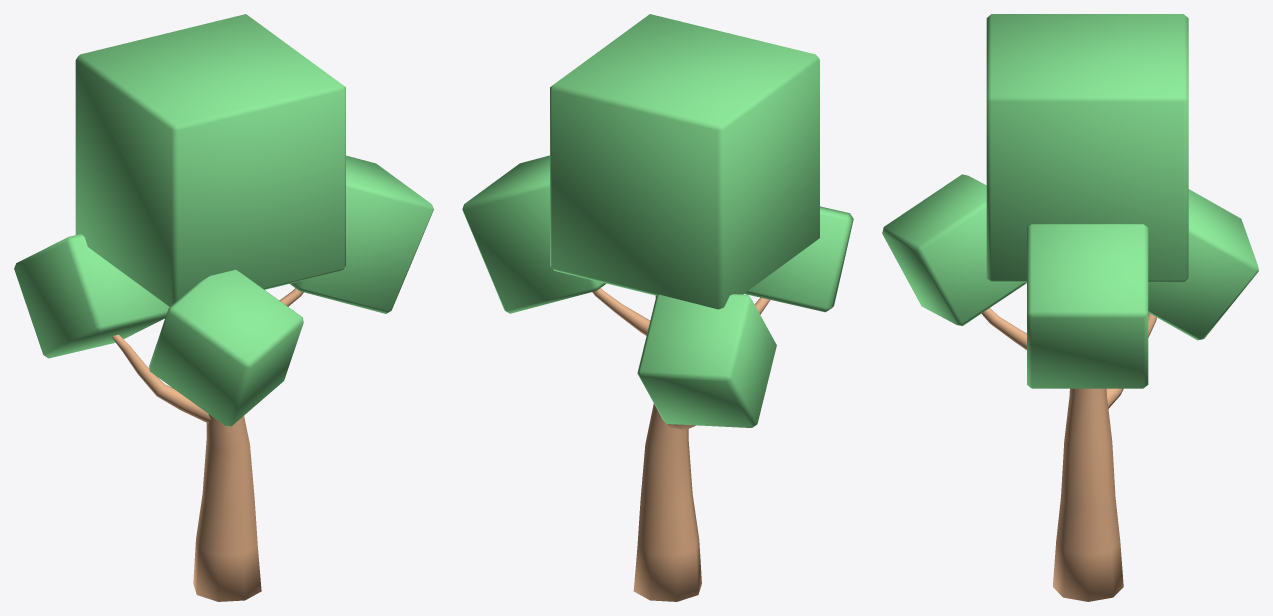
The model's file is Pohon_9.fbx.
The picture shows the model from 3 angles, left to right: view 1: azimuth 30°, elevation 25°; view 2: azimuth 150°, elevation 25°; view 3: azimuth 270°, elevation 25°; orthographic projection.
Visible parts, largest first — view 1: Circle.003; view 2: Circle.003; view 3: Circle.003.
Part boxes in pixels (box(x1,y1,x2,y2)): Circle.003: box(14, 14, 433, 601); Circle.003: box(462, 14, 853, 601); Circle.003: box(882, 14, 1258, 601).
Bounding box in the file's own units: 756 × 1191 × 776.
